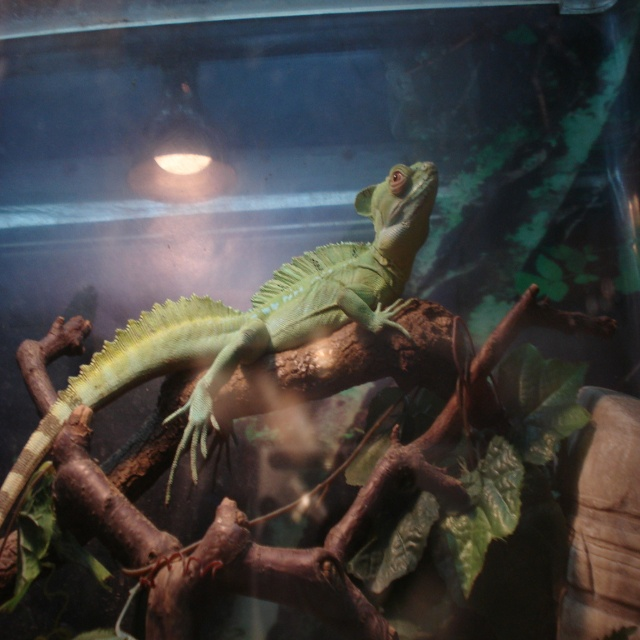Lizard: (30, 192, 422, 594)
